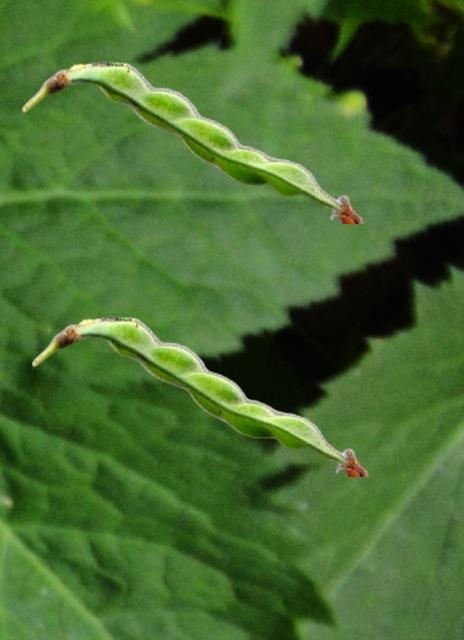pea: (22, 61, 363, 222), (32, 316, 368, 475)
